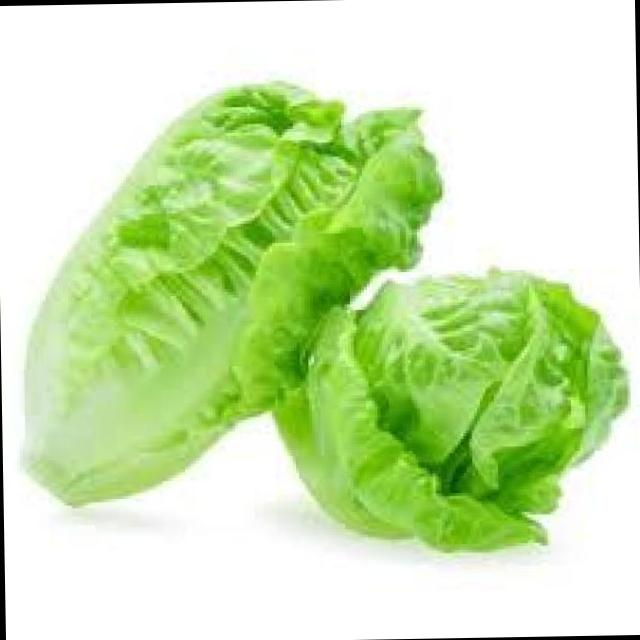Lettuce-Ready-to-Harvest: (26, 82, 440, 502), (275, 272, 625, 549)
